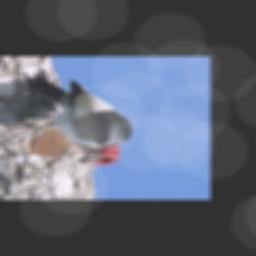Woodpecker: (16, 69, 136, 172)
